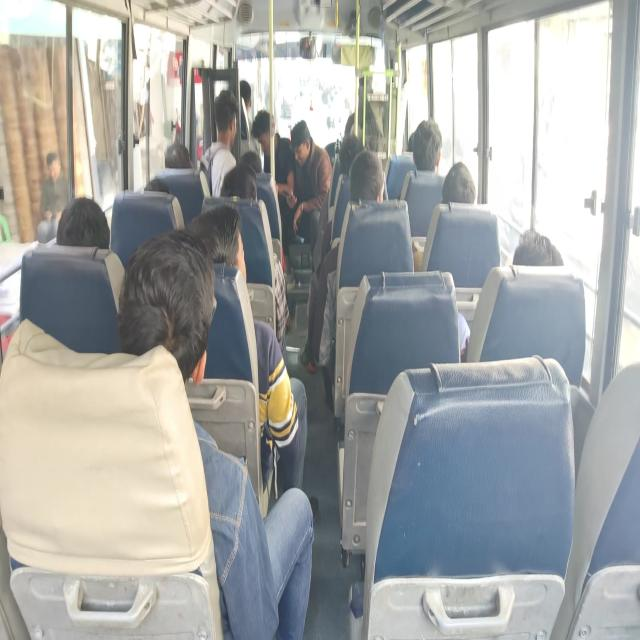person: (117, 228, 314, 638), (187, 203, 308, 503), (300, 149, 386, 372), (458, 228, 564, 361), (220, 162, 290, 356), (56, 196, 125, 313), (280, 120, 332, 272), (199, 89, 238, 198), (251, 109, 295, 199), (56, 196, 110, 249), (39, 151, 70, 221), (512, 228, 564, 266), (407, 118, 442, 173), (239, 80, 259, 156), (441, 161, 476, 204), (164, 142, 193, 169)
